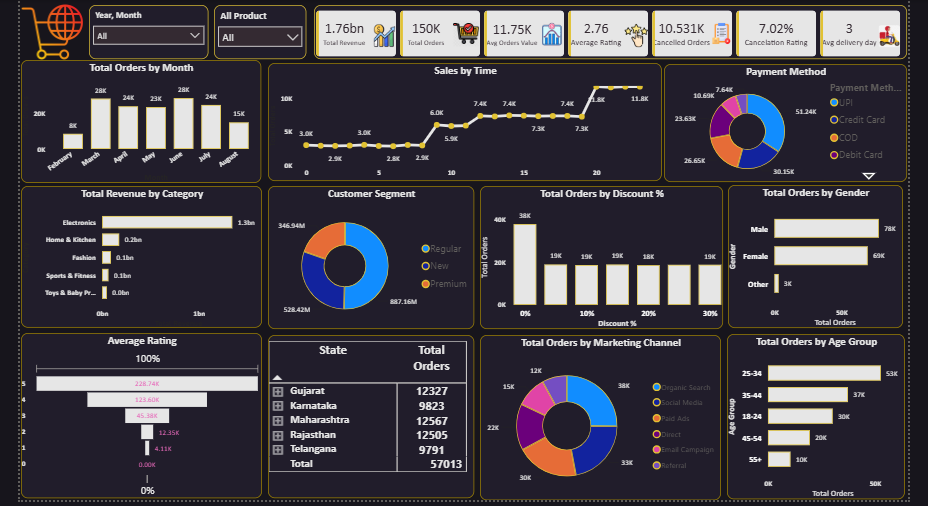

The dashboard page shown, as its layout file describes it:
{"tool":"powerbi","page":{"name":"Page 1","canvas":[1280,720],"ordinal":0},"visuals":[{"type":"cardVisual","fields":{"Data":["Orders.Total Revenue","Orders.Total Orders","Orders.Average order Value","Orders.Average Rating","Orders.Cancelled Orders","Orders.Cancelation Rating","Orders.Avg delivery day"]},"box":[423.4,7.2,853.9,77.8],"z":0},{"type":"clusteredColumnChart","fields":{"Category":["Orders.Date.Variation.Date Hierarchy.Month"],"Y":["Orders.Total Orders"]},"box":[1.4,86.4,345.6,177.1],"z":1000},{"type":"donutChart","title":"Payment Method","fields":{"Category":["Orders.Payment Method"],"Y":["CountNonNull(Orders.Payment Method)"]},"box":[927.4,92.2,349.9,169.9],"z":2000},{"type":"lineChart","title":"Sales by Time","fields":{"Category":["Orders.Hour"],"Y":["Orders.Total Orders"]},"box":[356.7,90,567.4,169.9],"z":3000},{"type":"pivotTable","fields":{"Rows":["Orders.State","Orders.City"],"Values":["Orders.Total Orders"]},"box":[357.1,482.4,296.6,234.7],"z":4000},{"type":"funnel","title":"Average Rating","fields":{"Category":["Orders.Rating (1-5)"],"Y":["Sum(Orders.Rating (1-5))"]},"box":[1.4,479.5,347,237.6],"z":5000},{"type":"pieChart","fields":{"Category":["Orders.Marketing Channel"],"Y":["Orders.Total Orders"]},"box":[662.4,482.4,347,237.6],"z":6000},{"type":"barChart","fields":{"Category":["Orders.Gender"],"Y":["Orders.Total Orders"]},"box":[1019.5,266.4,252,205.9],"z":7000},{"type":"slicer","fields":{"Values":["Orders.Date.Variation.Date Hierarchy.Year","Orders.Date.Variation.Date Hierarchy.Month"]},"box":[100,6.7,171.7,78.3],"z":8000},{"type":"slicer","title":"All Products","fields":{"Values":["Products.Category","Products.Product"]},"box":[280,6.7,133.3,78.3],"z":9000},{"type":"clusteredBarChart","fields":{"Category":["Orders.Age Group"],"Y":["Orders.Total Orders"]},"box":[1018.1,481,256.3,237.6],"z":10000},{"type":"pieChart","title":"Customer Segment","fields":{"Category":["Orders.Customer Segment"],"Y":["Orders.Total Revenue"]},"box":[357.1,267.8,296.6,205.9],"z":11000},{"type":"clusteredColumnChart","fields":{"Y":["Orders.Total Orders"],"Category":["Orders.Discount %"]},"box":[662.4,267.8,349.9,205.9],"z":12000},{"type":"clusteredBarChart","fields":{"Category":["Products.Category"],"Y":["Orders.Total Revenue"]},"box":[1.4,267.8,347,204.5],"z":13000},{"type":"image","box":[0,0,93.3,91.7],"z":14000}]}

Visuals, with their boxes in screenshot pixels (x1, y1, x2, y2):
cardVisual - Orders.Total Revenue x Orders.Total Orders: select_region(312, 7, 903, 61)
clusteredColumnChart - Orders.Date.Variation.Date Hierarchy.Month x Orders.Total Orders: select_region(20, 62, 259, 185)
"Payment Method" donutChart: select_region(661, 66, 903, 184)
"Sales by Time" lineChart: select_region(266, 65, 659, 182)
pivotTable - Orders.State x Orders.City: select_region(266, 336, 472, 499)
"Average Rating" funnel: select_region(20, 334, 260, 499)
pieChart - Orders.Marketing Channel x Orders.Total Orders: select_region(478, 336, 718, 501)
barChart - Orders.Gender x Orders.Total Orders: select_region(725, 187, 899, 329)
slicer - Orders.Date.Variation.Date Hierarchy.Year x Orders.Date.Variation.Date Hierarchy.Month: select_region(89, 7, 207, 61)
"All Products" slicer: select_region(213, 7, 305, 61)
clusteredBarChart - Orders.Age Group x Orders.Total Orders: select_region(724, 335, 901, 500)
"Customer Segment" pieChart: select_region(266, 188, 472, 330)
clusteredColumnChart - Orders.Total Orders x Orders.Discount %: select_region(478, 188, 720, 330)
clusteredBarChart - Products.Category x Orders.Total Revenue: select_region(20, 188, 260, 329)
image: select_region(19, 2, 84, 66)
